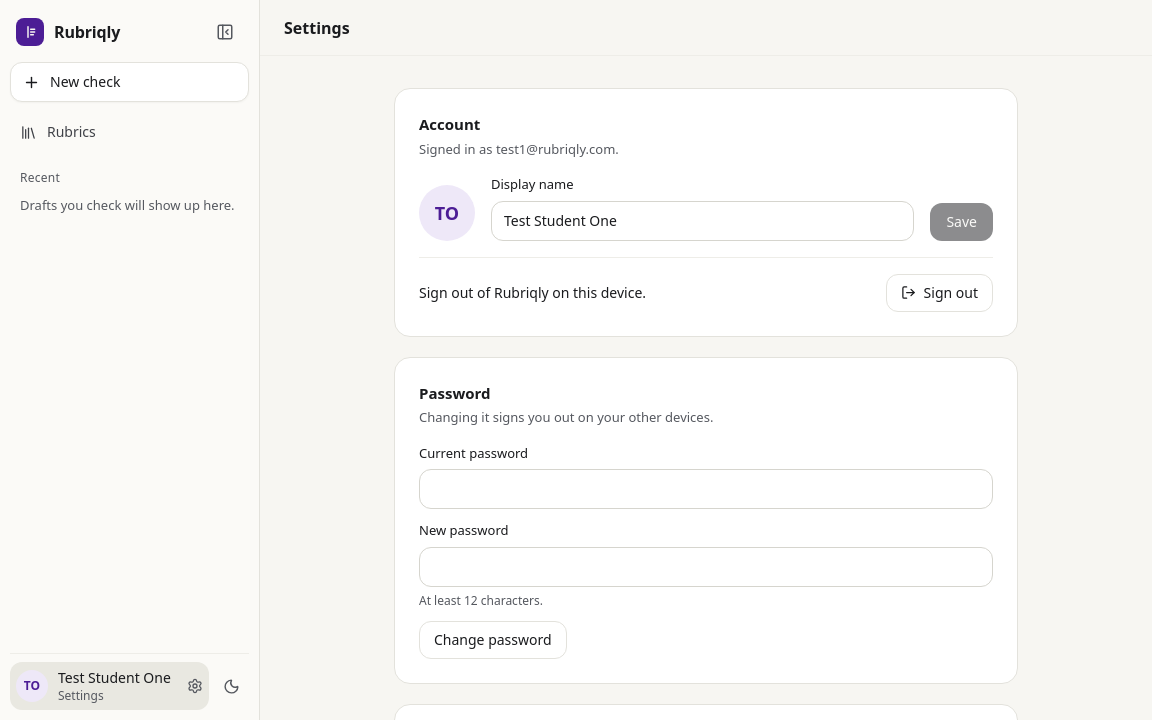
Settings › shows the account and saves a display name on the server
The width and height of the screenshot is (1152, 720).
Expected: the text "Signed in as test1@rubriqly.com." is shown, [419,140,619,158]
Replace the text in the field labelled "Display name" with "Ada Lovelace" at (703, 220), box [491,200,914,240]
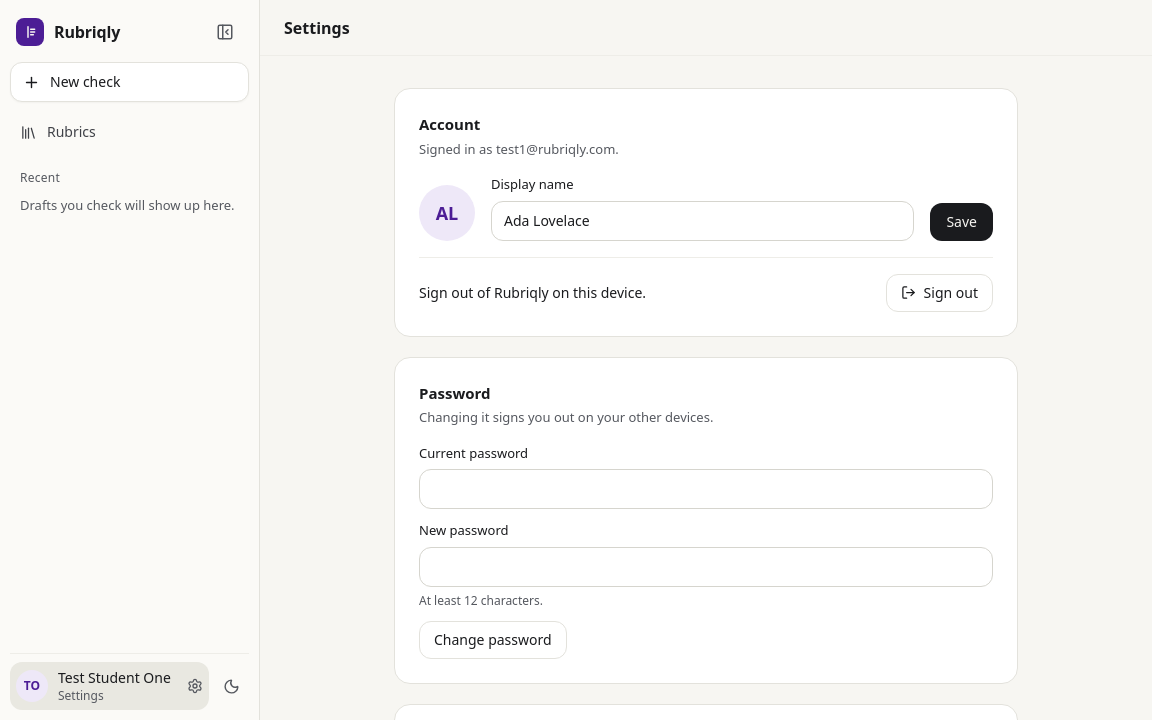
Click the button "Save".
click(962, 222)  # box [930,202,993,240]
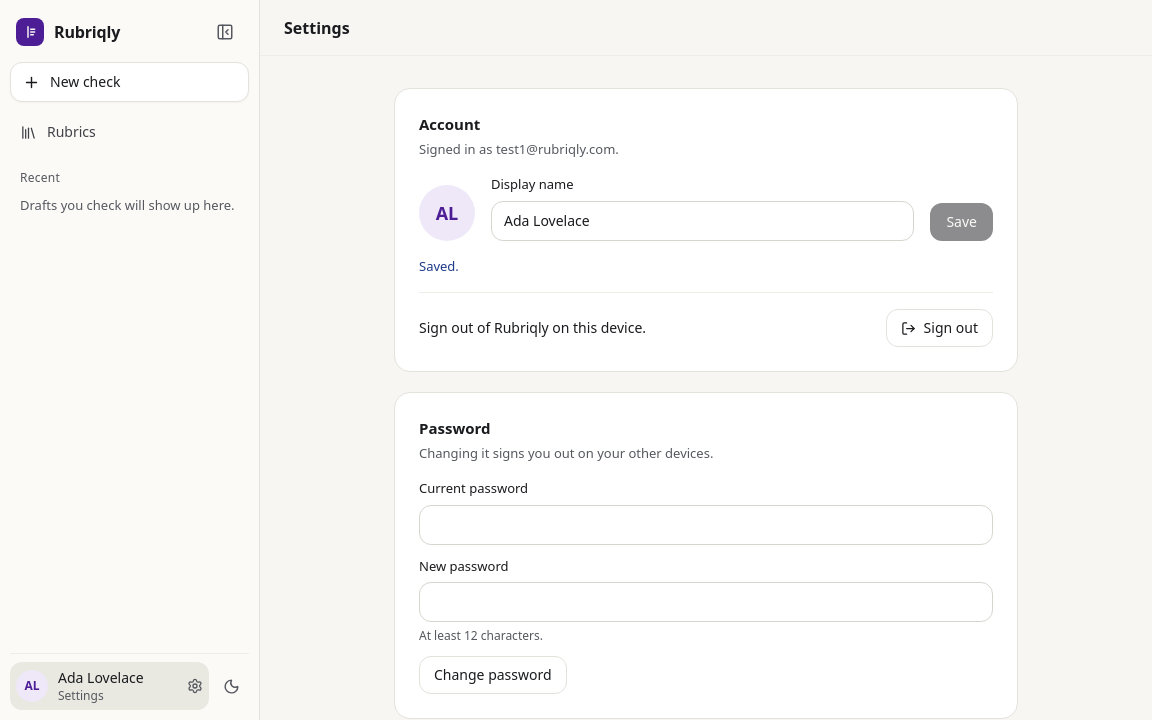
Expected: the text "Saved." is shown, [419,256,459,274]
Expected: the text "Ada Lovelace" is shown, [58,668,144,687]
Expected: the text "AL" next to "Ada Lovelace" is shown, [24,677,40,694]
